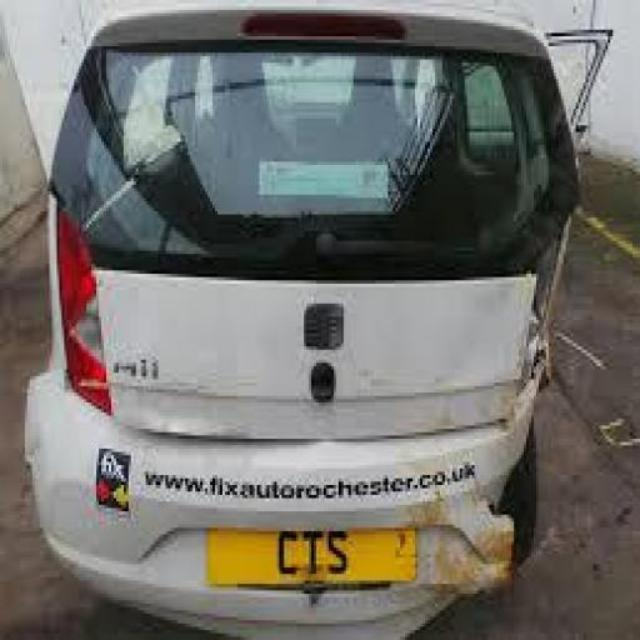no part: (425, 165, 587, 604)
